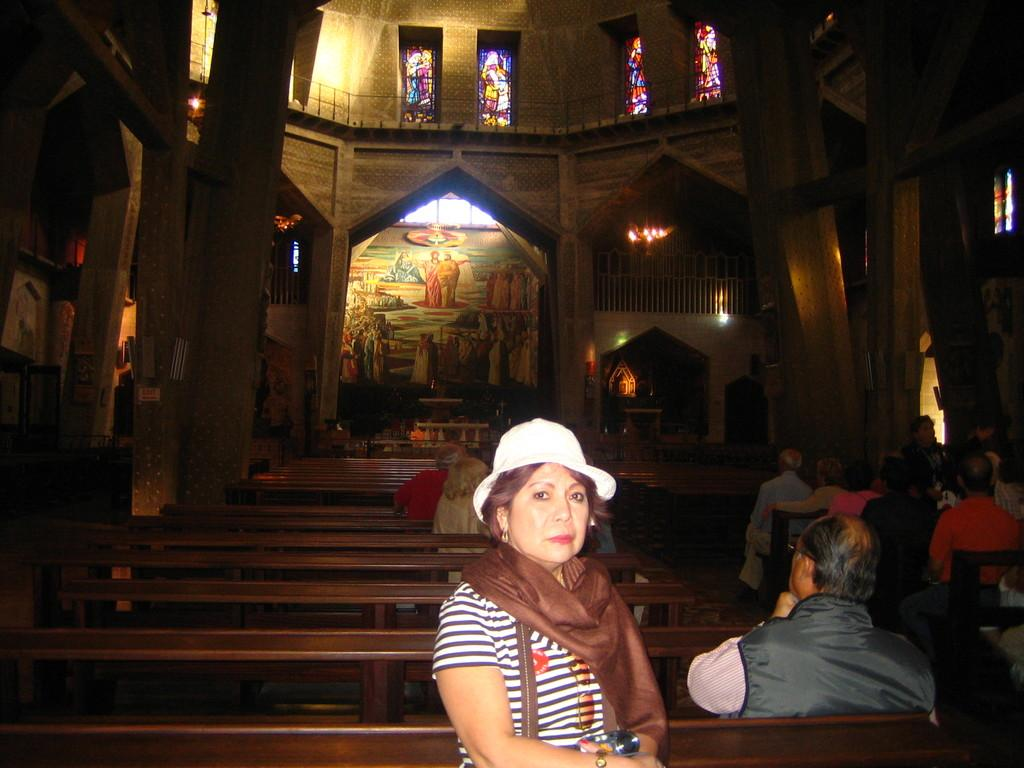Hat: (473, 416, 619, 523)
